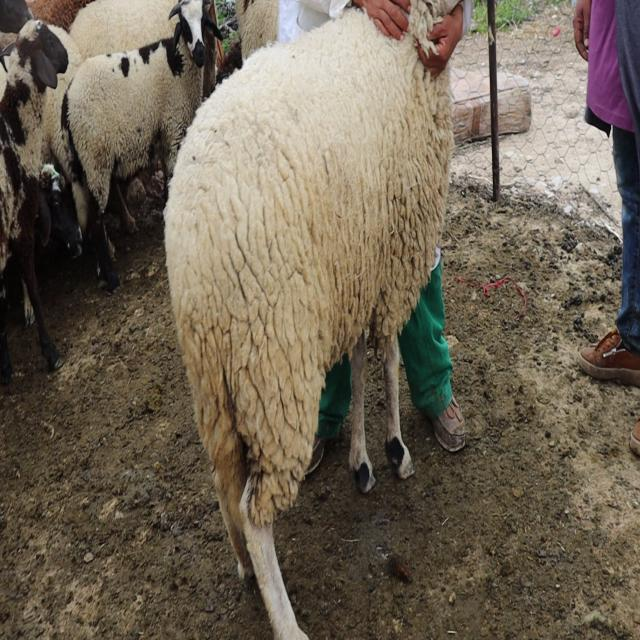Score_5: (164, 0, 454, 639)
